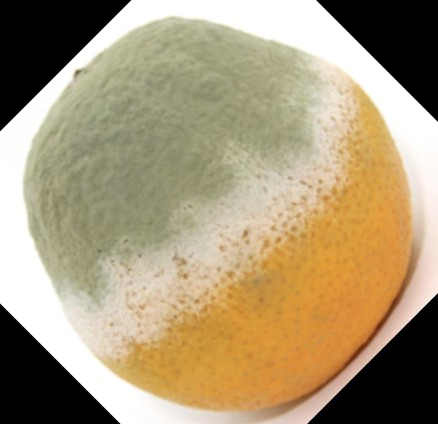rotten_orange: (23, 19, 411, 414)
